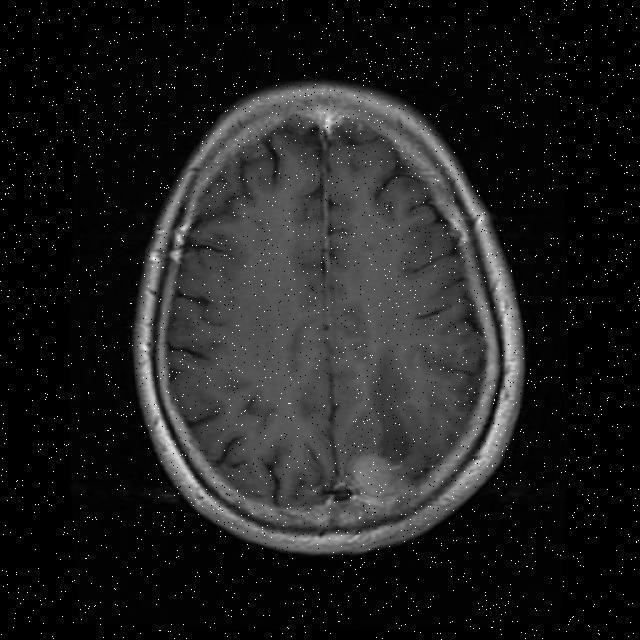Meningioma: (351, 456, 403, 503)
